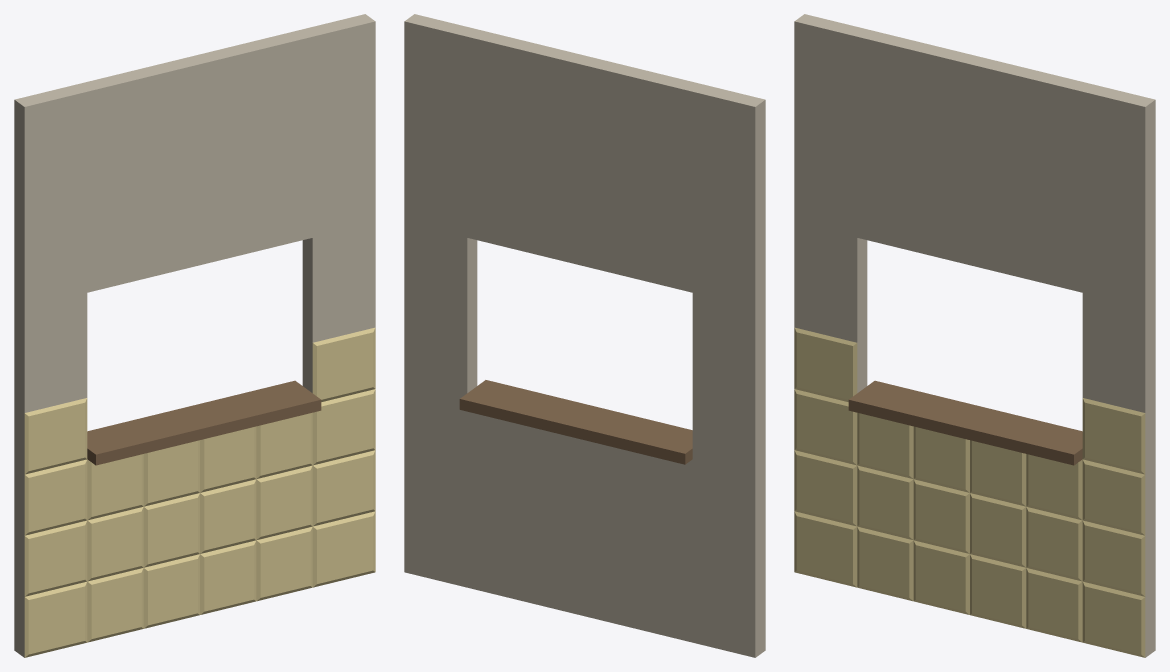
File: Mesh_WallHalfCeramic_B2.fbx
3 renders of one model, left to right at view 1: azimuth 30°, elevation 25°; view 2: azimuth 150°, elevation 25°; view 3: azimuth 330°, elevation 25°, orthographic.
Parts seen in each view (by area): view 1: Mesh_WallHalfCeramic_B2; view 2: Mesh_WallHalfCeramic_B2; view 3: Mesh_WallHalfCeramic_B2.
Part boxes in pixels (left/top/right/bottom): Mesh_WallHalfCeramic_B2: left=14, top=14, right=375, bottom=657; Mesh_WallHalfCeramic_B2: left=404, top=14, right=765, bottom=657; Mesh_WallHalfCeramic_B2: left=794, top=14, right=1155, bottom=657.
Bounding box in the file's own units: 2 × 3 × 0.2574.
